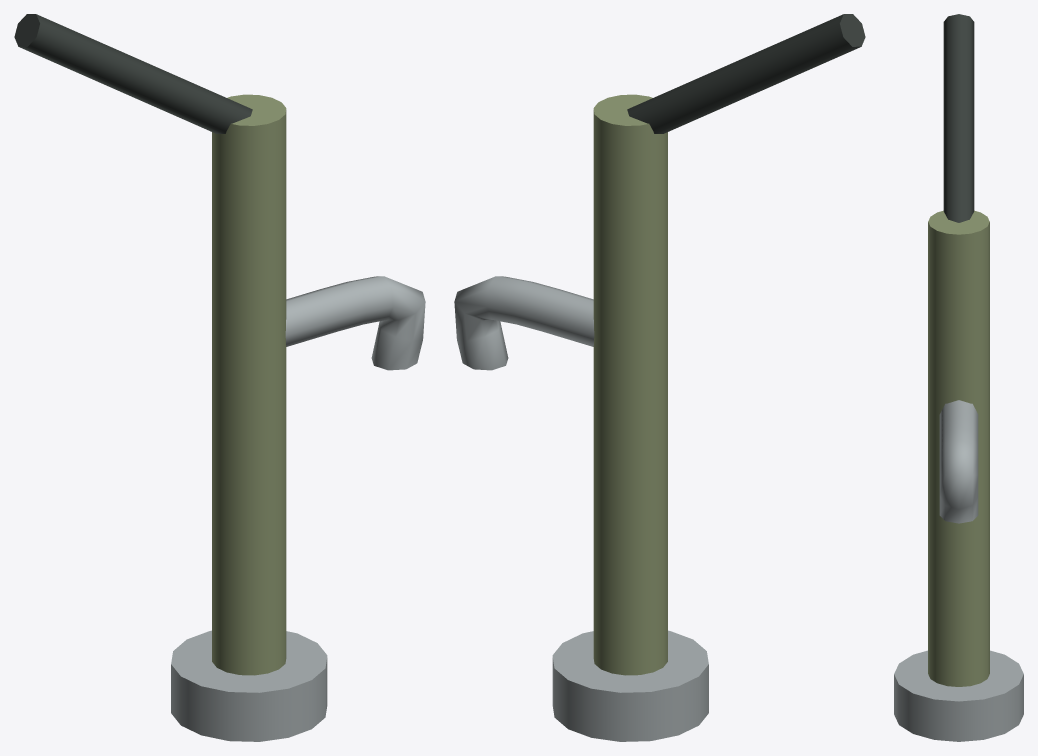
The model's file is water-collection-and-purification-hand-pump-810617df__20183.glb.
3 views of the same model, side by side, from view 1: azimuth 30°, elevation 25°; view 2: azimuth 150°, elevation 25°; view 3: azimuth 270°, elevation 25° (orthographic). The views are drawn at different scales.
Visible parts, largest first — view 1: hand-pump, handle/dark; view 2: hand-pump, handle/dark; view 3: hand-pump, handle/dark.
Part boxes in pixels (x1,y1,x2,y2): hand-pump: [171, 94, 425, 741]; handle/dark: [14, 14, 252, 133]; hand-pump: [454, 94, 708, 741]; handle/dark: [627, 14, 865, 133]; hand-pump: [894, 210, 1023, 741]; handle/dark: [943, 14, 974, 222].
Size of the model in its own units: 0.4735 by 0.8359 by 0.16.
